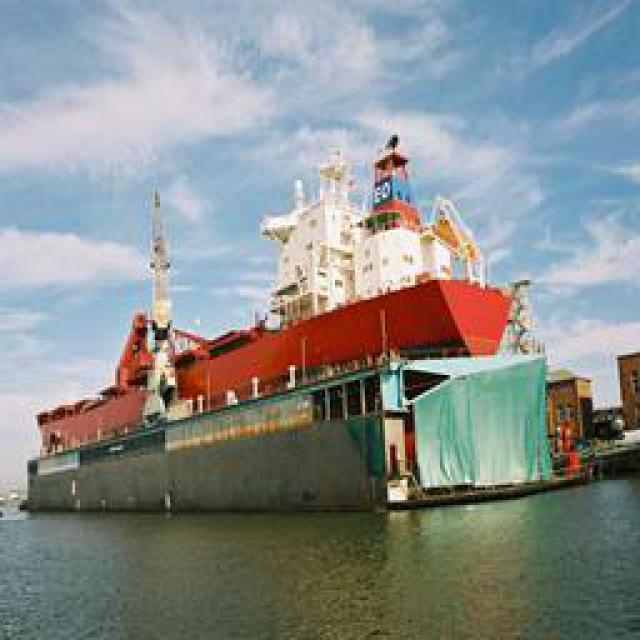Ship: (26, 137, 551, 507)
